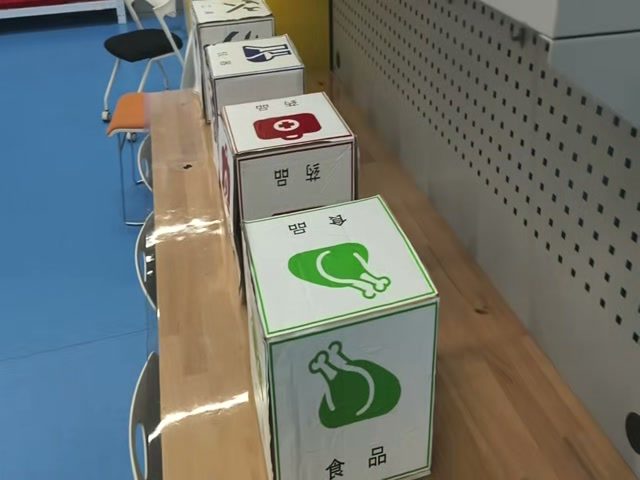Cube_food: (235, 201, 440, 353)
Cube_ins: (204, 34, 306, 80)
Cube_medicine: (217, 91, 354, 159)
Cube_tool: (188, 0, 275, 28)
